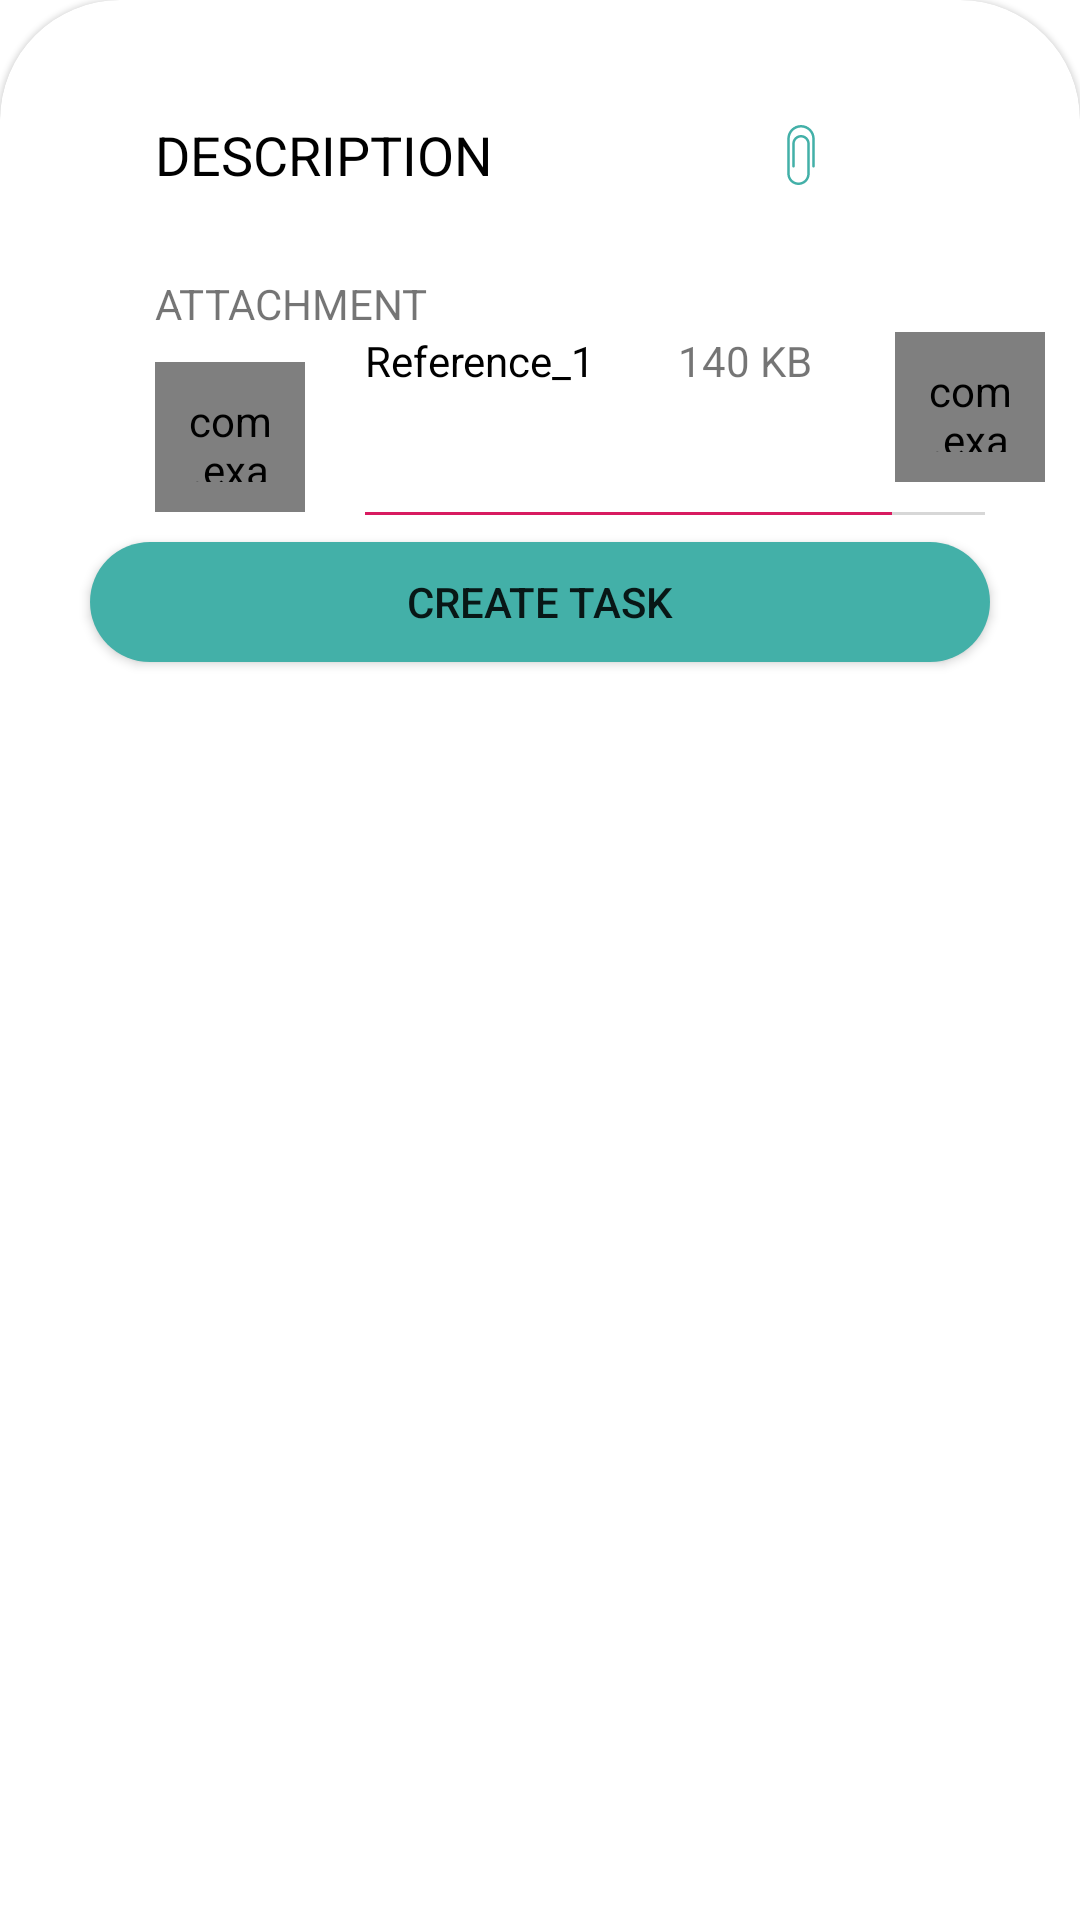

Where to tap for icons on this 1080px×1920px app screen, as [x,y]:
paperclip: [801,155]
